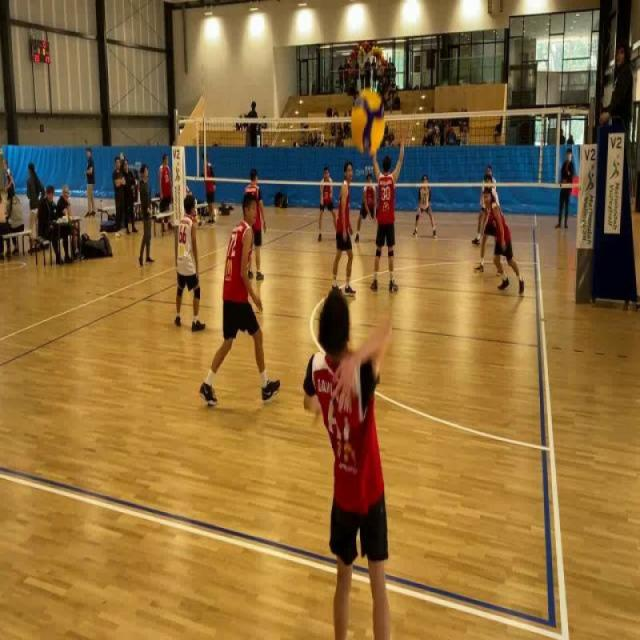volleyball: (349, 88, 387, 158), (100, 230, 108, 238)
